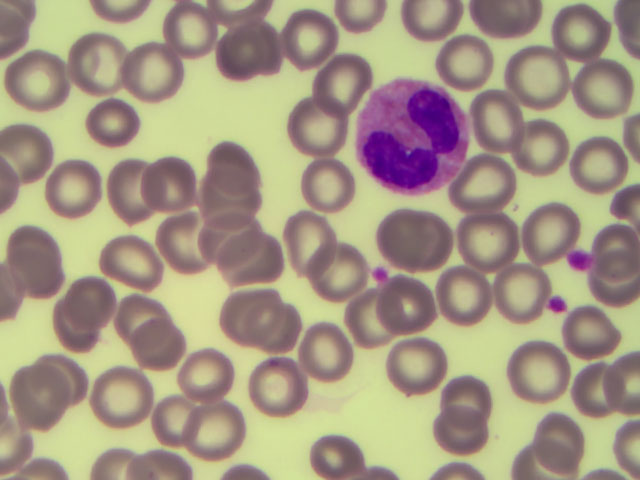Platelets: (540, 293, 569, 317), (565, 249, 586, 267), (370, 264, 387, 282)
RBC: (302, 414, 372, 480), (13, 366, 83, 432), (2, 47, 72, 112), (51, 27, 121, 92), (123, 43, 193, 108), (87, 87, 157, 152), (88, 163, 158, 228), (48, 160, 118, 225), (2, 122, 72, 187), (10, 223, 80, 288), (57, 267, 127, 332), (44, 299, 114, 364), (94, 229, 164, 294), (132, 217, 202, 282), (137, 150, 207, 215), (196, 143, 266, 208), (198, 181, 268, 246), (199, 206, 269, 271), (218, 237, 288, 302), (224, 285, 294, 350), (126, 311, 196, 376), (113, 277, 183, 342), (82, 371, 152, 436), (140, 389, 210, 454), (166, 347, 236, 412), (189, 397, 259, 462), (246, 350, 316, 415), (282, 323, 352, 388), (327, 297, 397, 362), (370, 282, 440, 347), (309, 238, 379, 303), (277, 204, 347, 269), (289, 149, 359, 214), (271, 89, 341, 154), (311, 51, 381, 116), (277, 10, 347, 75), (238, 20, 308, 85), (167, 4, 237, 69), (428, 29, 498, 94), (391, 1, 461, 66), (460, 89, 530, 154), (500, 44, 570, 109), (541, 3, 611, 68), (565, 56, 635, 121), (570, 131, 640, 196), (516, 110, 586, 175), (456, 149, 526, 214), (464, 208, 534, 273), (389, 205, 459, 270), (429, 263, 499, 328), (484, 255, 554, 320), (503, 187, 573, 252), (561, 302, 631, 367), (510, 336, 580, 401), (526, 409, 596, 474), (416, 398, 486, 463), (435, 364, 505, 429), (387, 332, 457, 397)
WBC: (356, 82, 468, 197)
